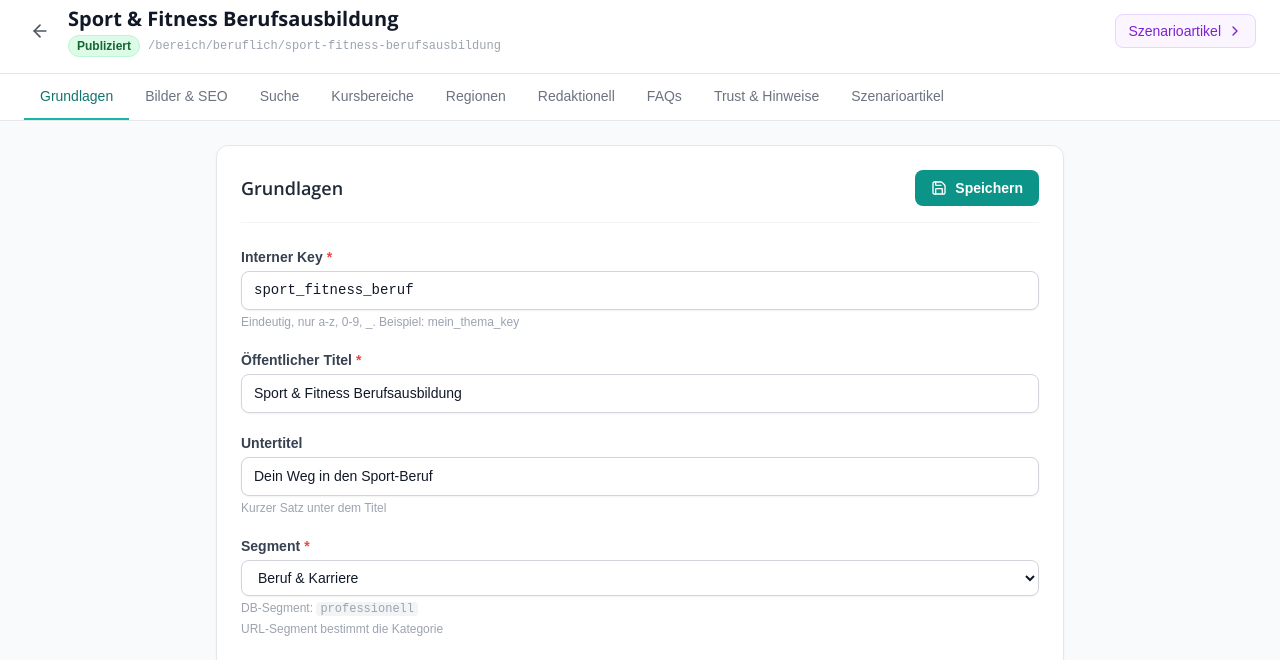
Phase 8.6 — Admin-Editor: predefined_searches › Eintrag kann entfernt werden
Click the button "Suche". click: (280, 97)
box: [244, 74, 315, 120]
(page scrolled)
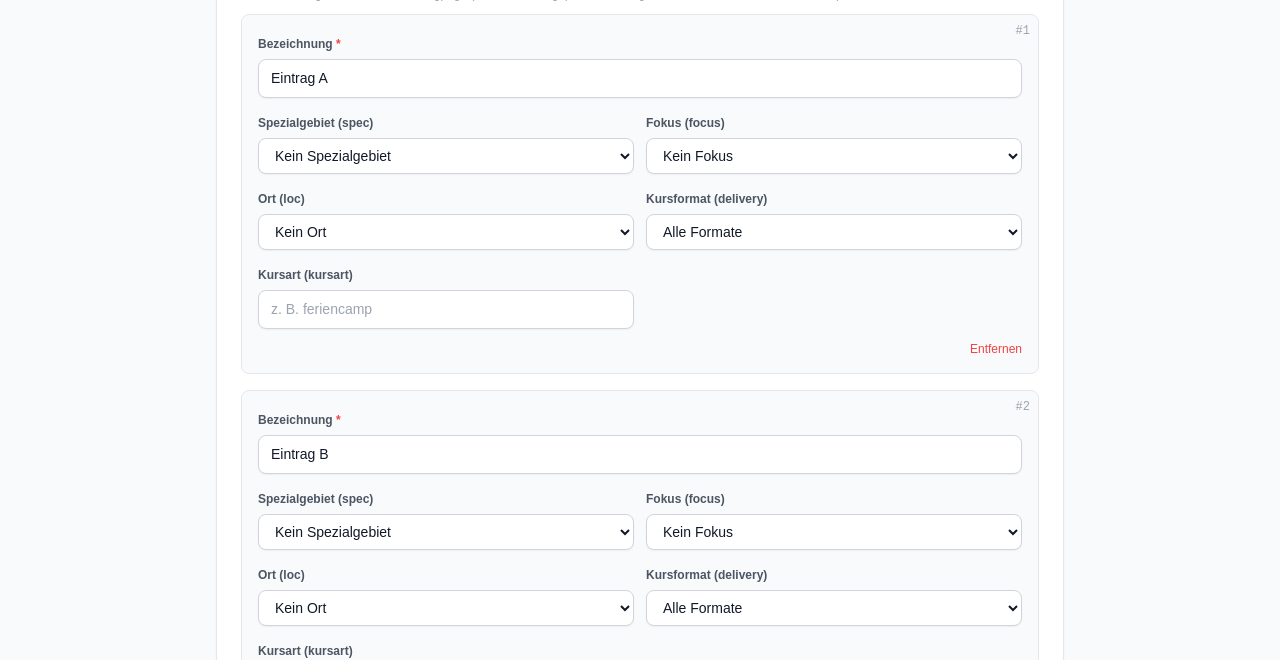
Expected: the 1st field showing "Eintrag A" is shown, [258, 59, 1022, 98]
Expected: the 2nd field showing "Eintrag B" is shown, [258, 435, 1022, 474]
Click the button "Entfernen". click: (996, 349)
box: [970, 341, 1022, 357]
(page scrolled)
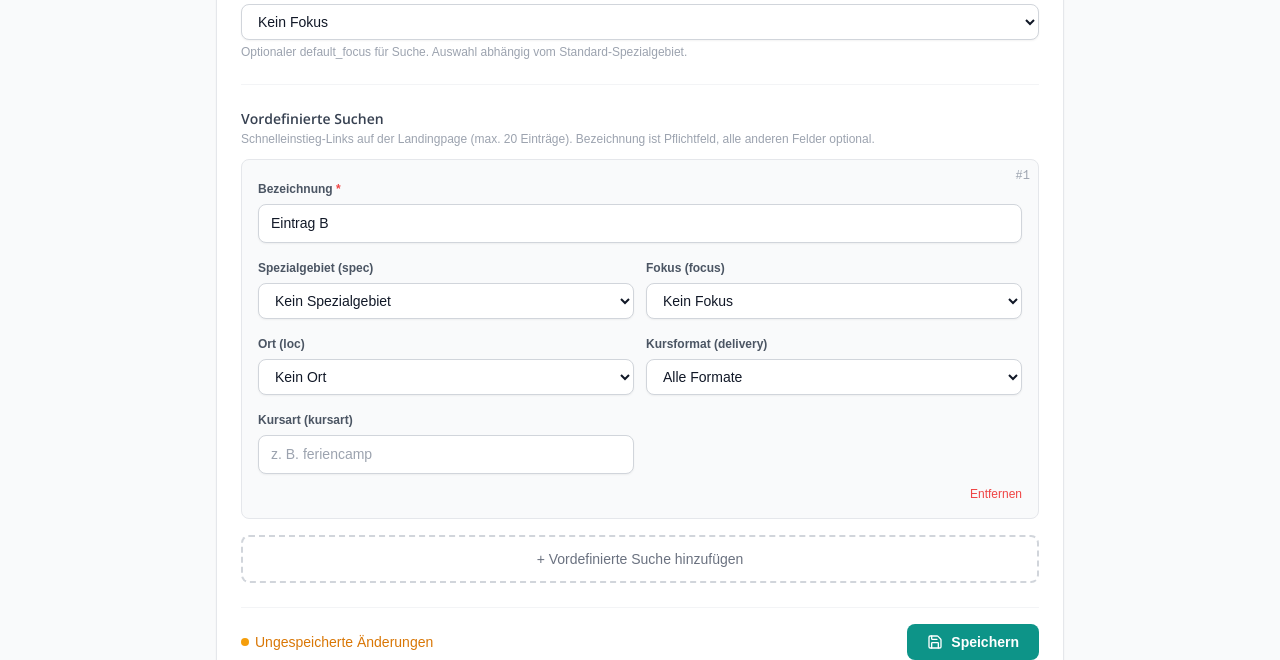
Expected: the field showing "Eintrag A" is not shown
Expected: the field showing "Eintrag B" is shown, [258, 204, 1022, 243]
